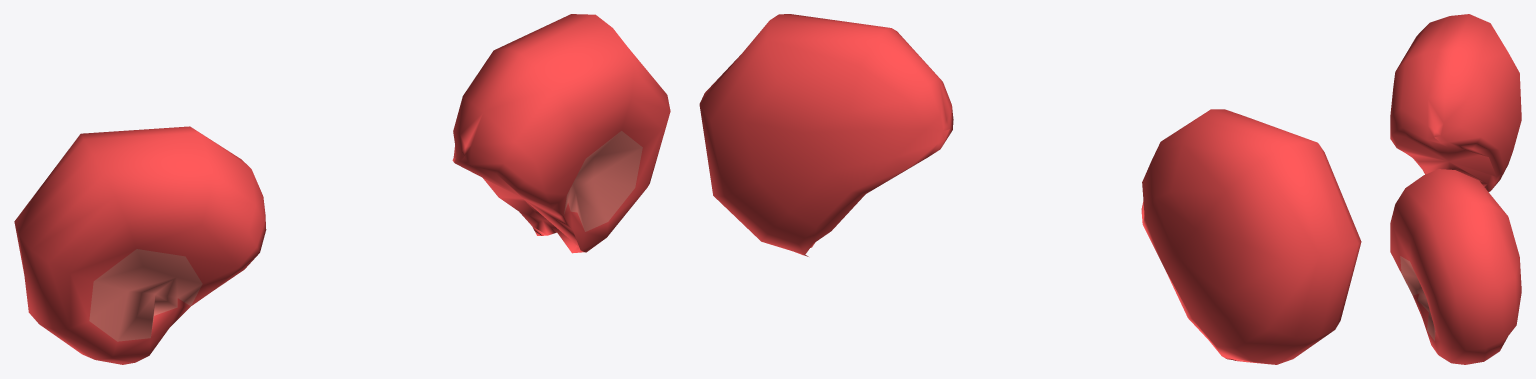
File: Ears_Bear.glb
3 renders of one model, left to right at view 1: azimuth 30°, elevation 25°; view 2: azimuth 150°, elevation 25°; view 3: azimuth 270°, elevation 25°, orthographic. The views are drawn at different scales.
Visible parts, largest first — view 1: Ears_Bear; view 2: Ears_Bear; view 3: Ears_Bear.
Part boxes in pixels (x1=…): Ears_Bear: x1=14, y1=14, x2=670, y2=364; Ears_Bear: x1=699, y1=14, x2=1361, y2=364; Ears_Bear: x1=1390, y1=14, x2=1521, y2=364.
Size of the model in its own units: 1.08 by 0.3645 by 0.2566.
Materials: 1 (1 with a texture image).
